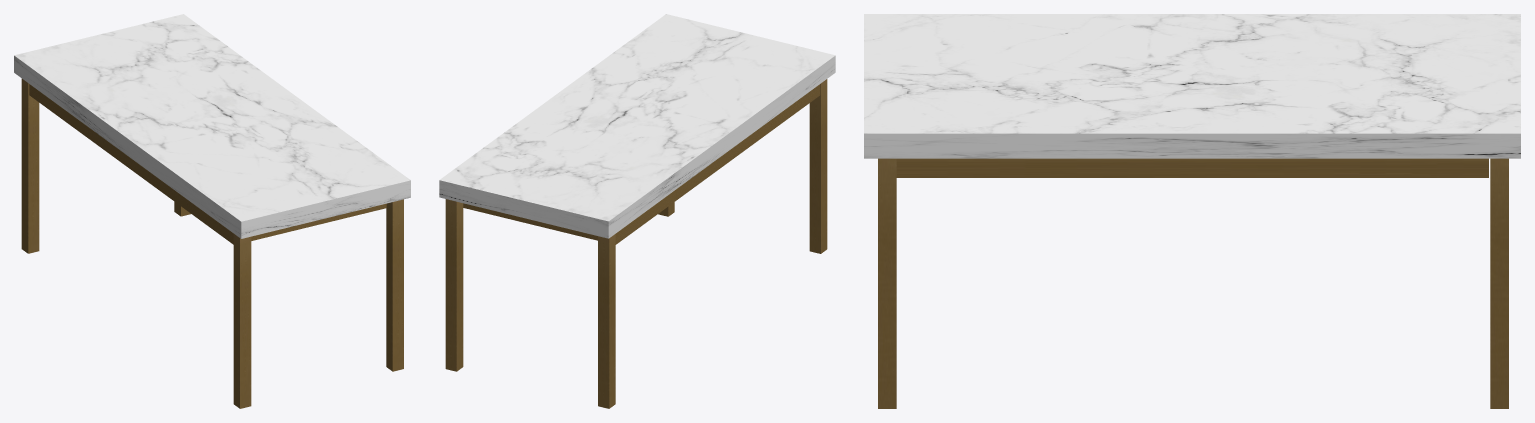
File: Table.fbx
3 views of the same model, side by side, from view 1: azimuth 30°, elevation 25°; view 2: azimuth 150°, elevation 25°; view 3: azimuth 270°, elevation 25° (orthographic). The views are drawn at different scales.
Parts seen in each view (by area): view 1: Table.002, Table.004, Table.001, Table.006, Table.003; view 2: Table.002, Table.005, Table.001, Table.006, Table.004; view 3: Table.002, Table.001, Table.003, Table.005.
Boxes of the visible parts, x1,y1,x2,y2 form: Table.002: (14,14,410,238); Table.004: (233,234,251,408); Table.001: (29,84,386,244); Table.006: (21,78,39,253); Table.003: (386,199,403,371); Table.002: (439,14,835,238); Table.005: (445,199,463,371); Table.001: (463,84,820,244); Table.006: (598,234,615,408); Table.004: (809,79,827,253); Table.002: (864,14,1520,158); Table.001: (896,158,1488,177); Table.003: (878,158,896,408); Table.005: (1490,158,1508,408).
Size of the model in its own units: 200 by 216 by 464.
